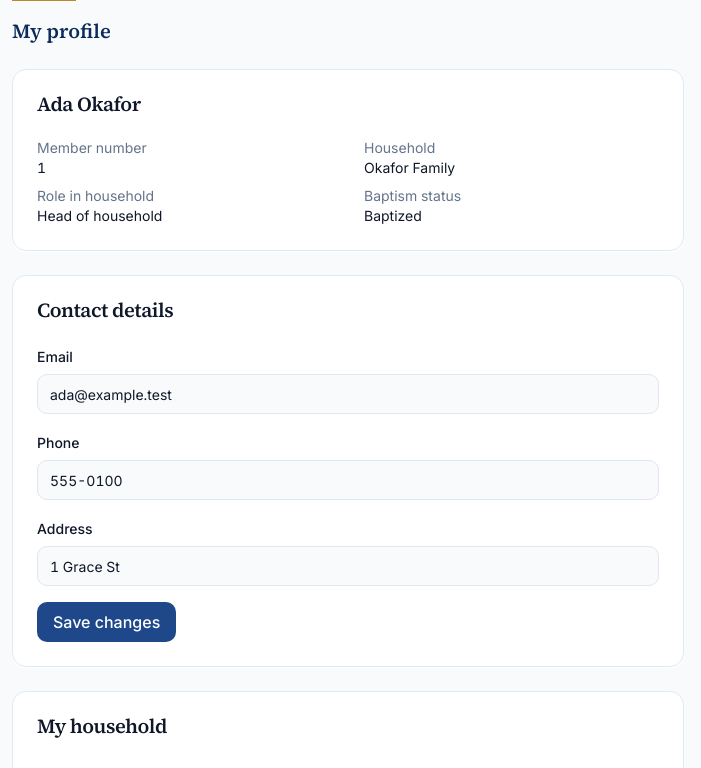
Test case: MemberProfilePage (story 3.2) › rejects an invalid email
Expected: the text "Okafor Family" is shown, [364, 159, 455, 176]
Replace the text in the field labelled "Email" with "not-an-email" at [348, 394], box [37, 374, 659, 414]
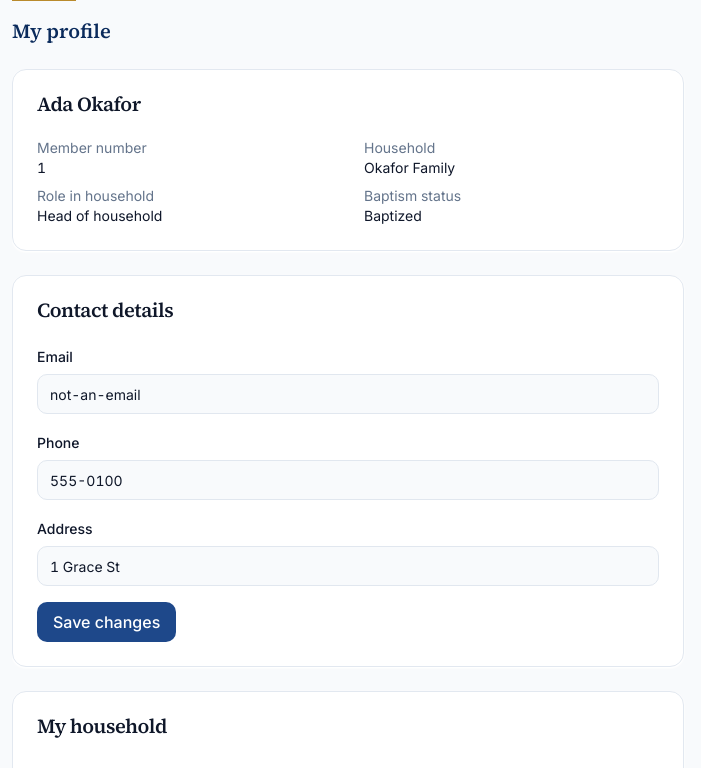
Click the button "Save changes" at [107, 622], box [37, 602, 176, 642]
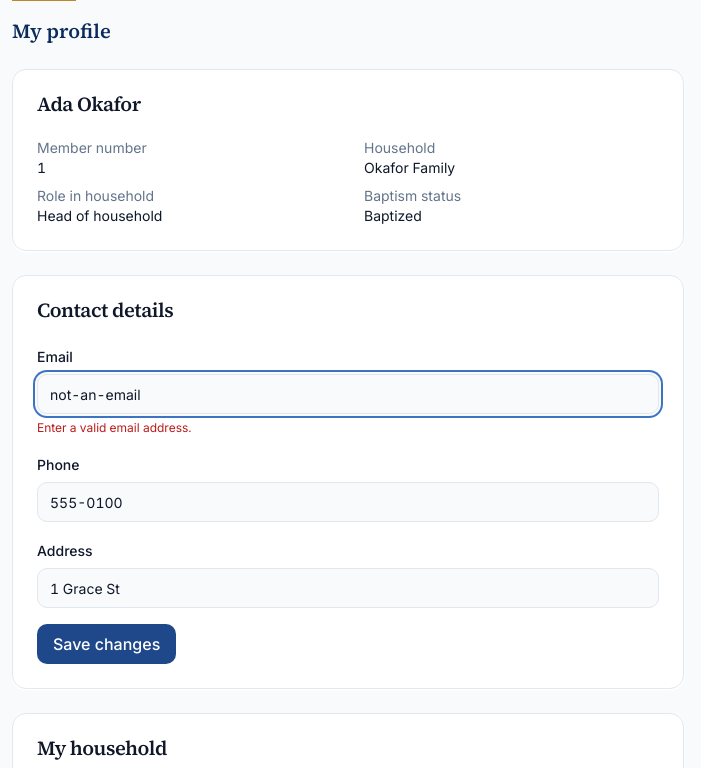
Result: the text "Enter a valid email address." is shown at [37, 420, 192, 435]
